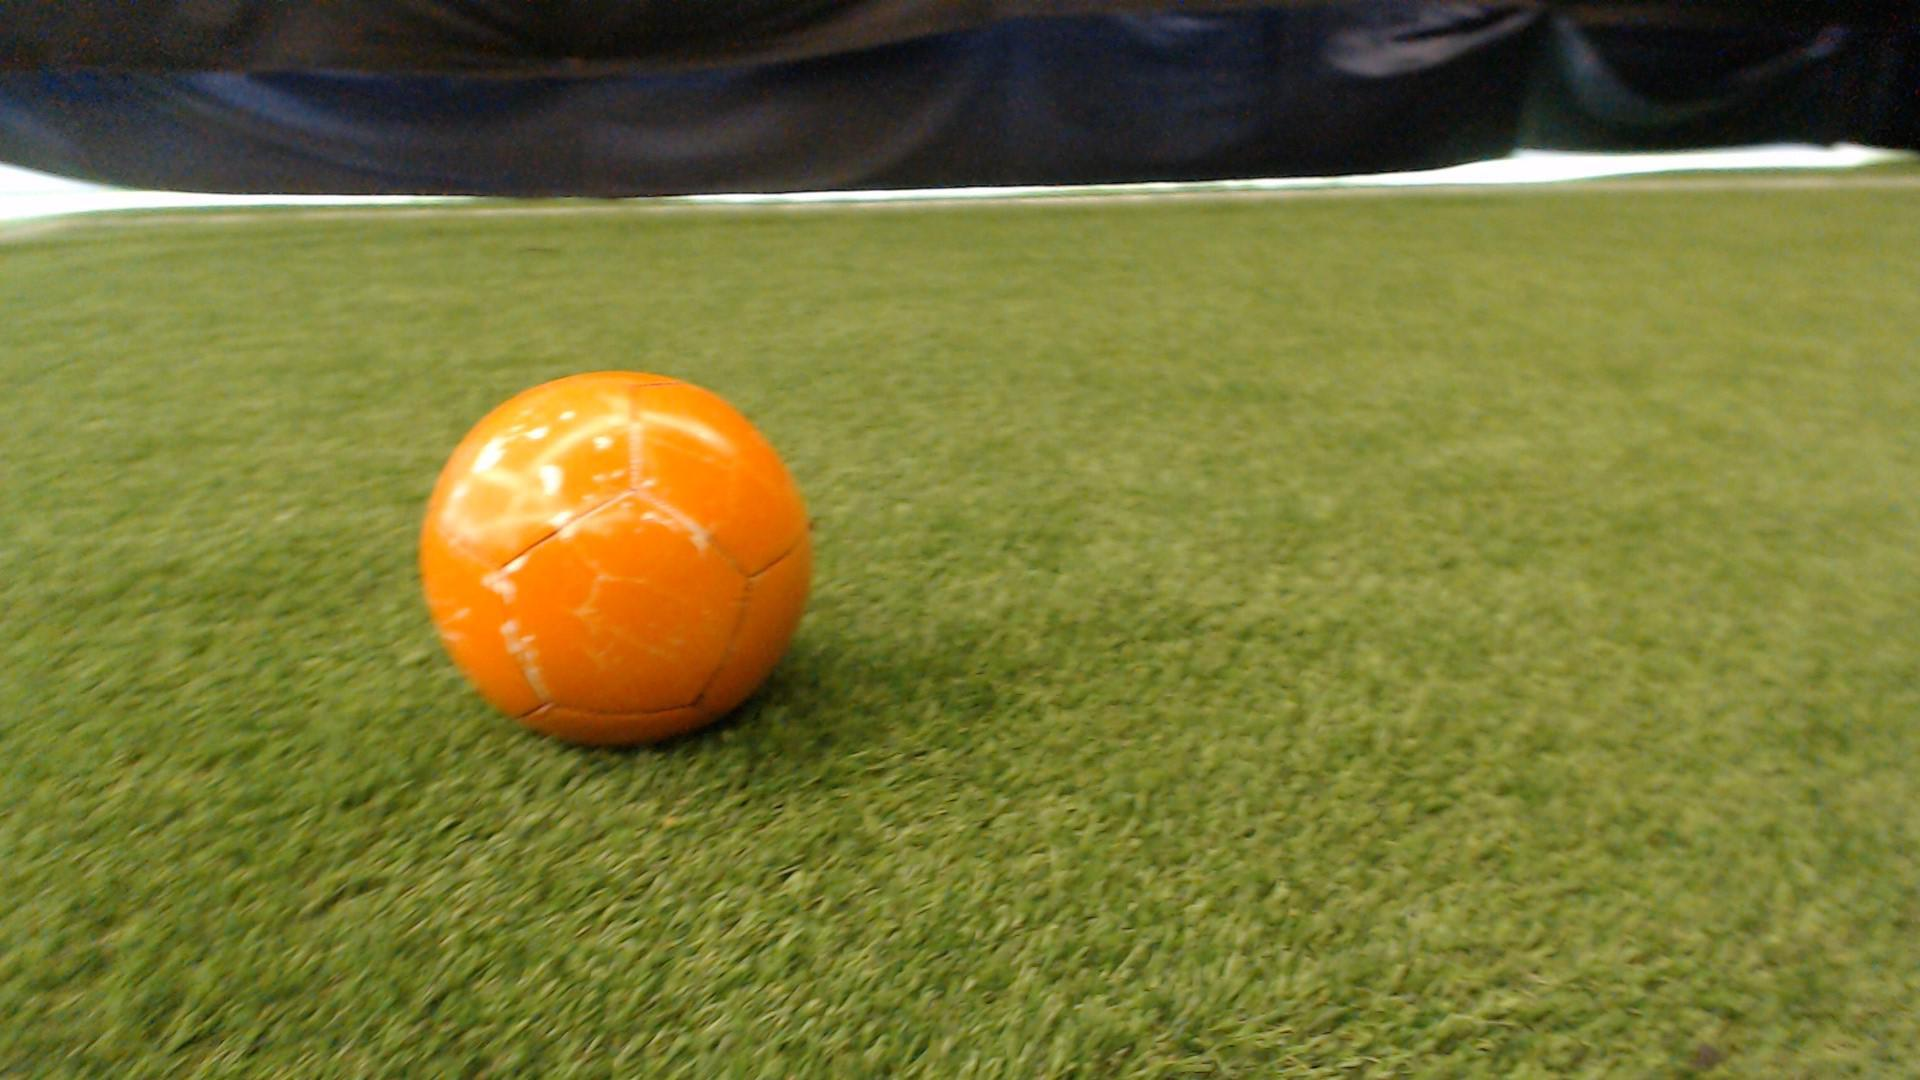bola: (401, 339, 876, 793)
